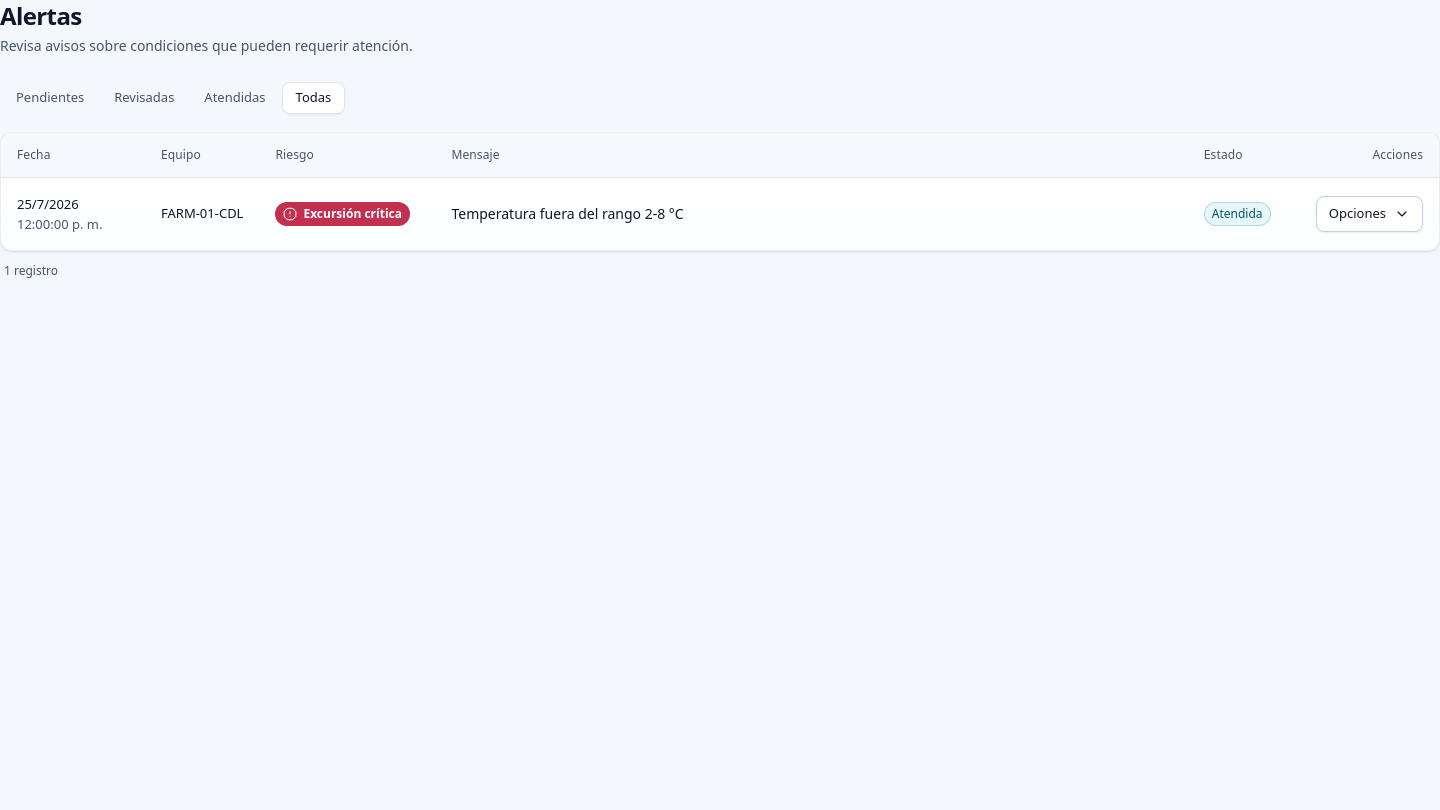
Test: AlertasPage — HU-28: rectificación trazable › una acción ya rectificada no ofrece volver a rectificarla
Click the button "Opciones" at (1369, 214), box [1316, 196, 1423, 232]
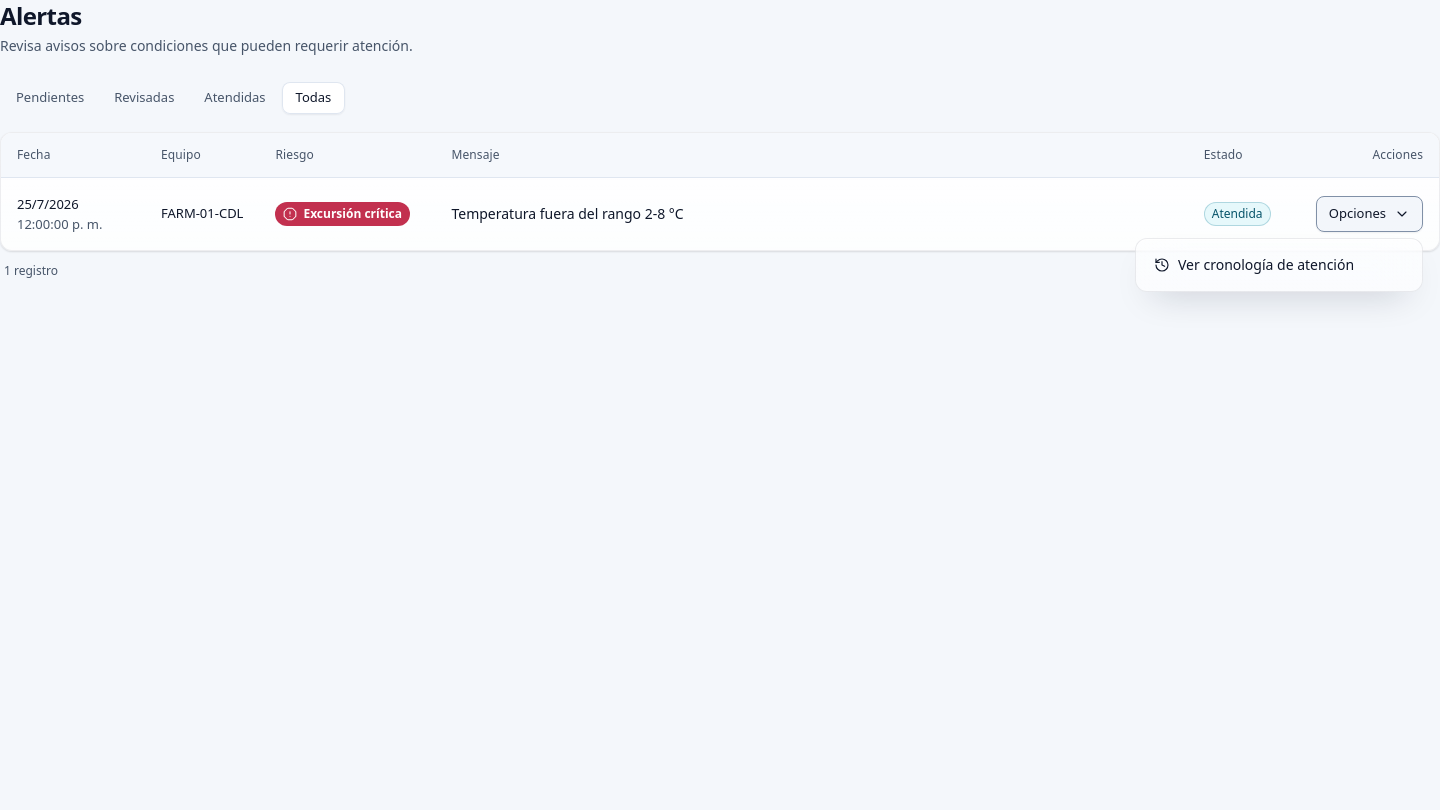
Click the menu item with aria-label "FARM-01-CDL" at (1279, 265), box [1142, 245, 1416, 285]
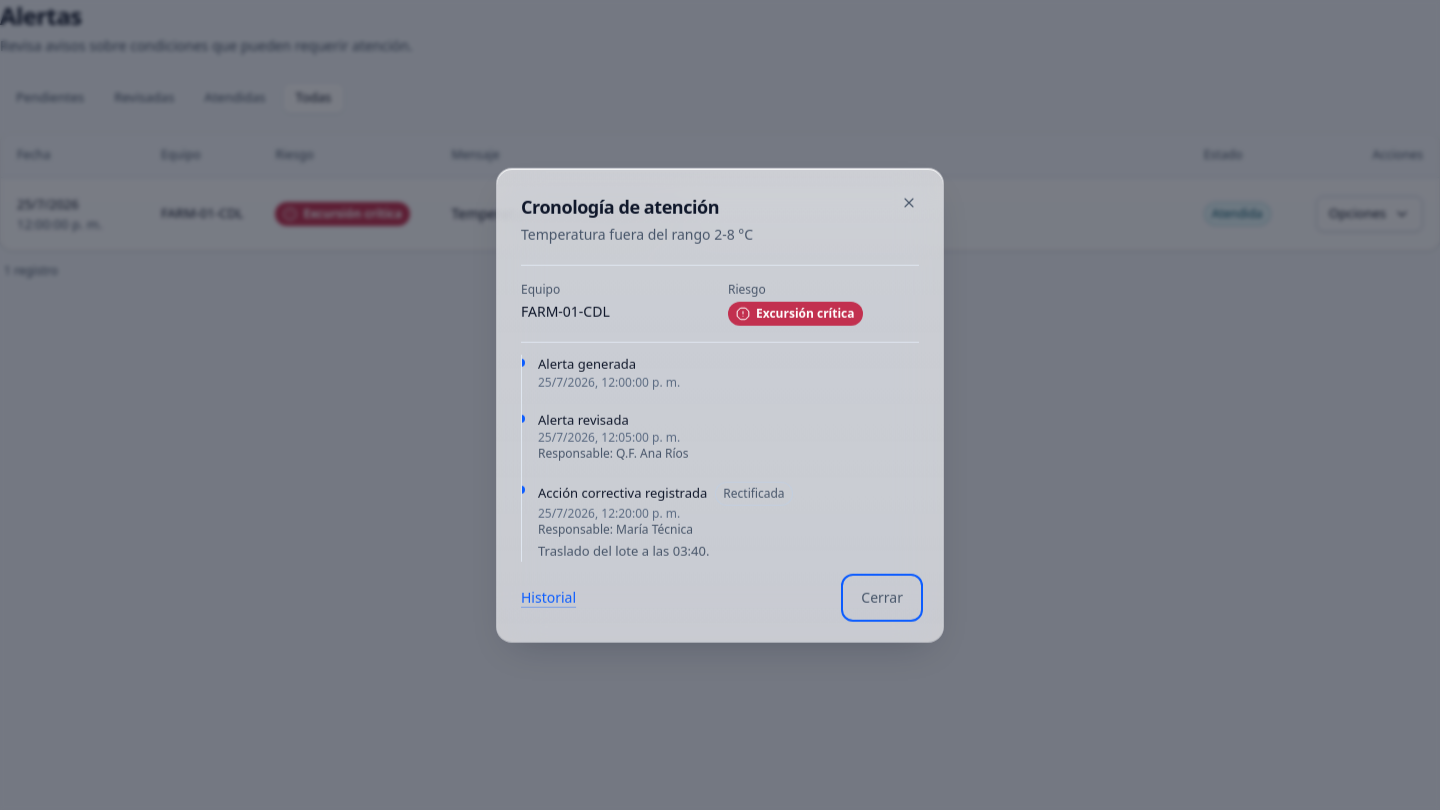
Result: the text "Rectificada" is shown at [715, 482, 793, 506]
